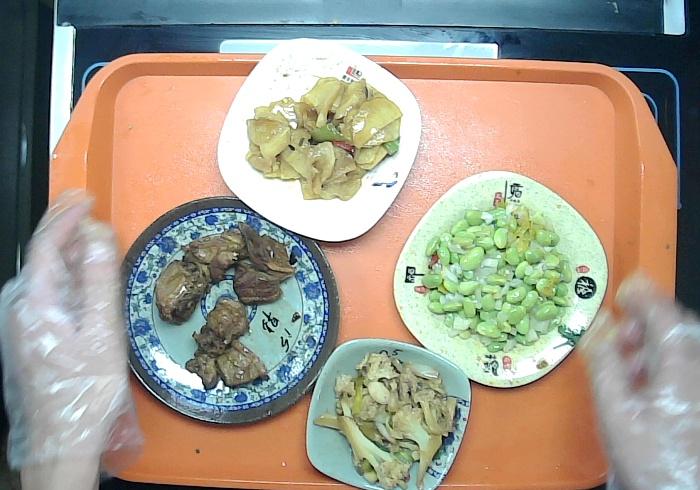NLDX-Bai_Se_Xiao_Fang_Die: (211, 35, 423, 247)
NLDX-Fu_Zi_Fang_Die: (387, 164, 610, 392)
NLDX-Qing_Hua_Xiao_Fang_Die: (301, 334, 475, 488)
NLDX-Qing_Hua_Yuan_Die: (114, 191, 343, 428)
